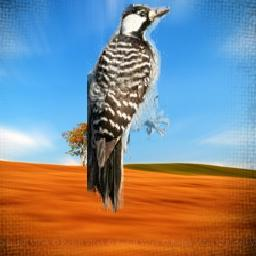Woodpecker: (88, 5, 171, 214)
